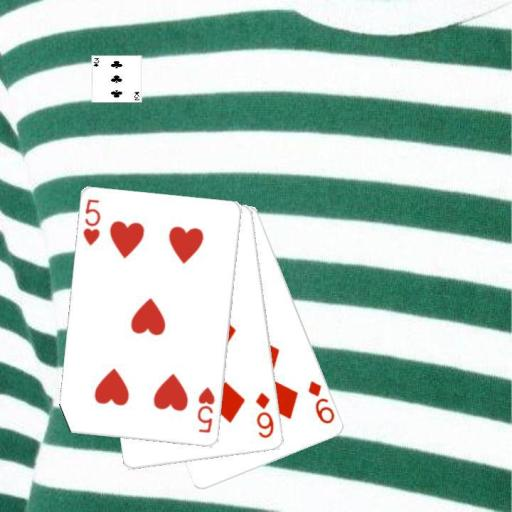5H: (194, 384, 217, 434), (81, 197, 103, 248)
6D: (252, 390, 276, 440)
9D: (305, 378, 336, 426)
